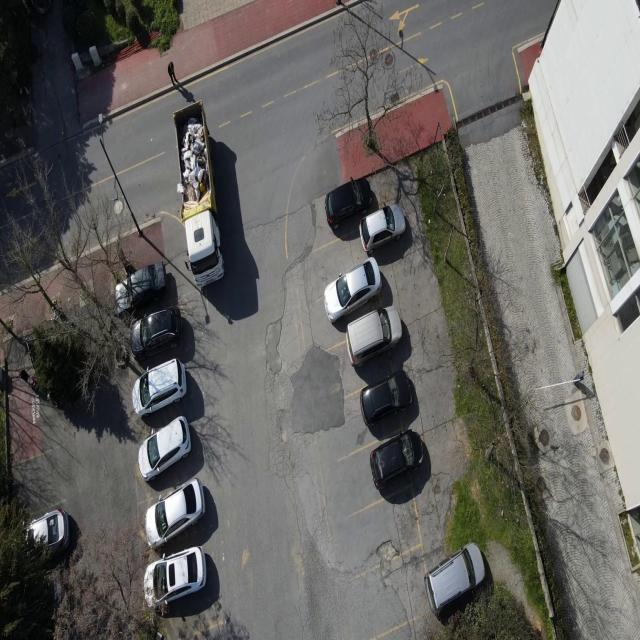p3rson: (166, 58, 177, 86)
